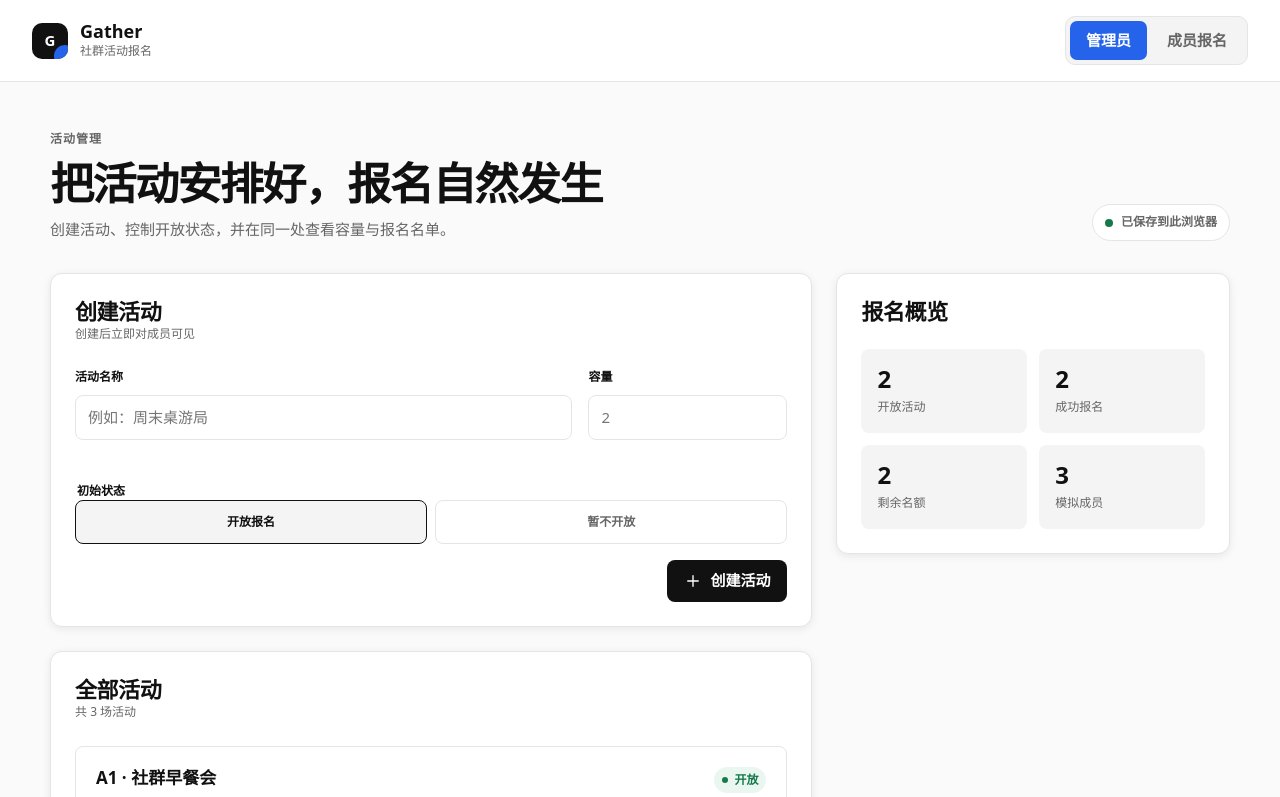
Test: 管理员关键交互 › 创建活动成功后持久化并显示新活动
Type "读书会" into the field labelled "活动名称" at (324, 417), box [75,395,572,440]
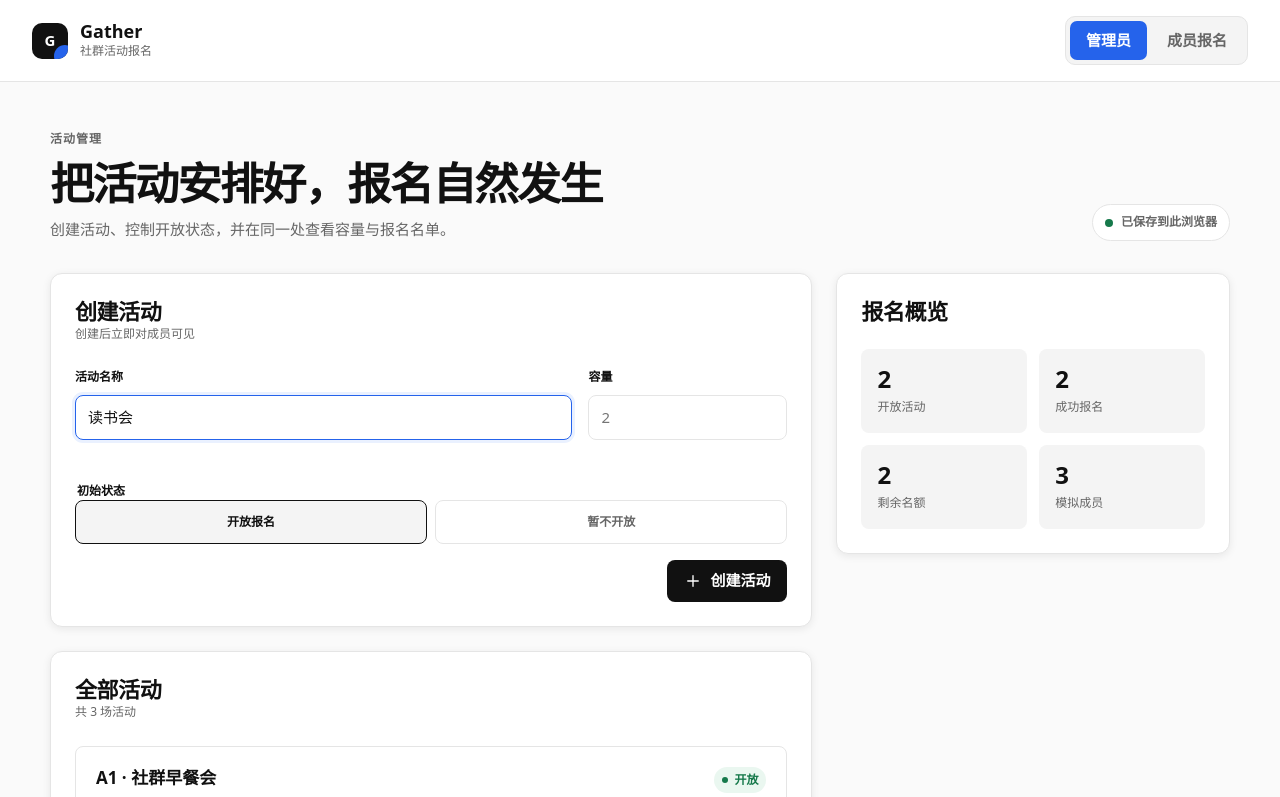
Type "4" into the number field labelled "容量" at (688, 417), box [588,395,788,440]
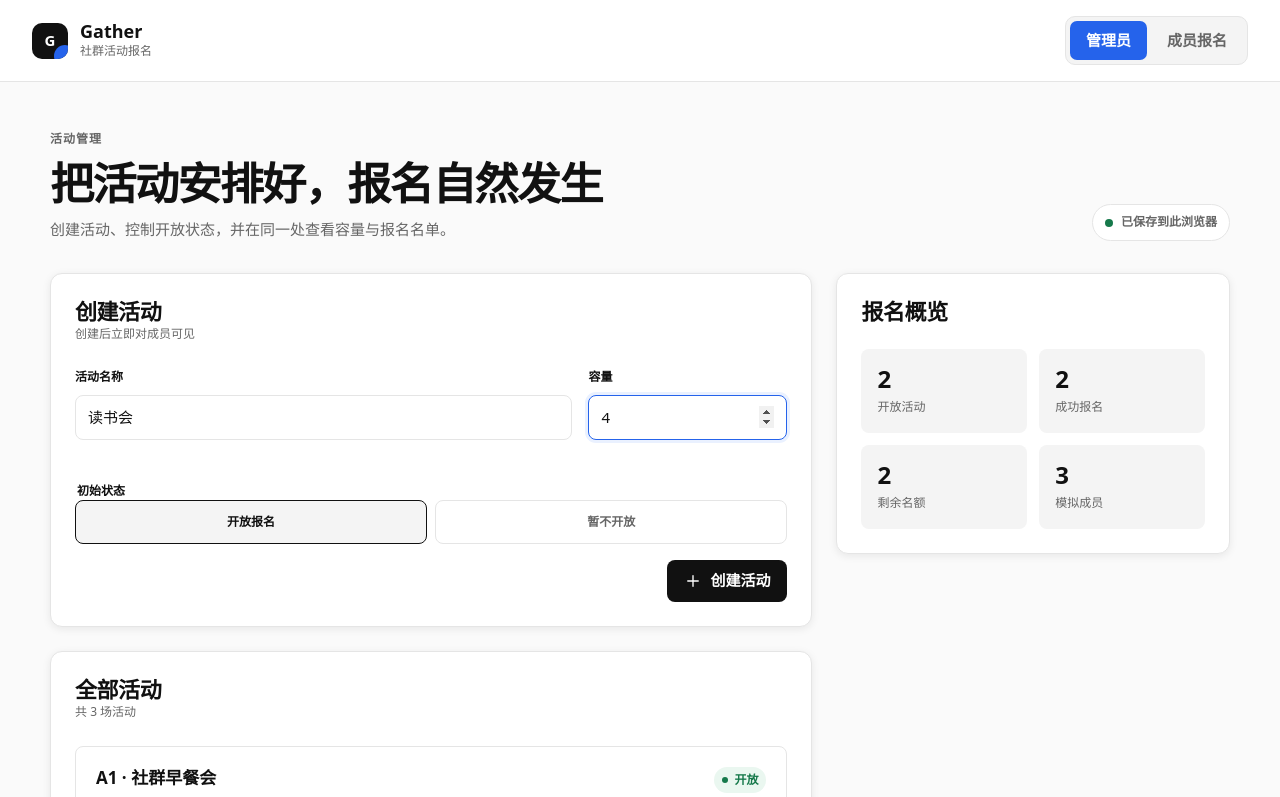
Click the button "创建活动" at (727, 581), box [667,560,787,602]
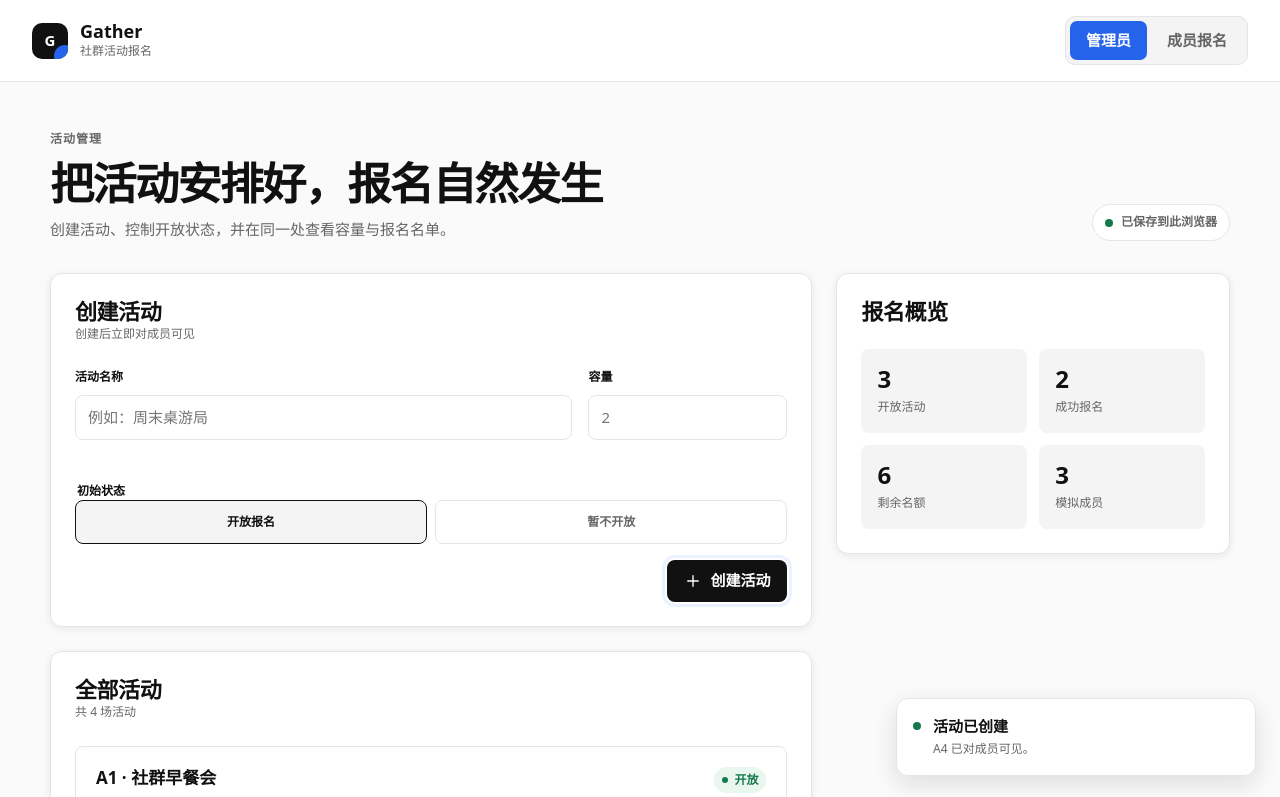
Now the text "活动已创建" is shown, box [933,716,1008,736]
